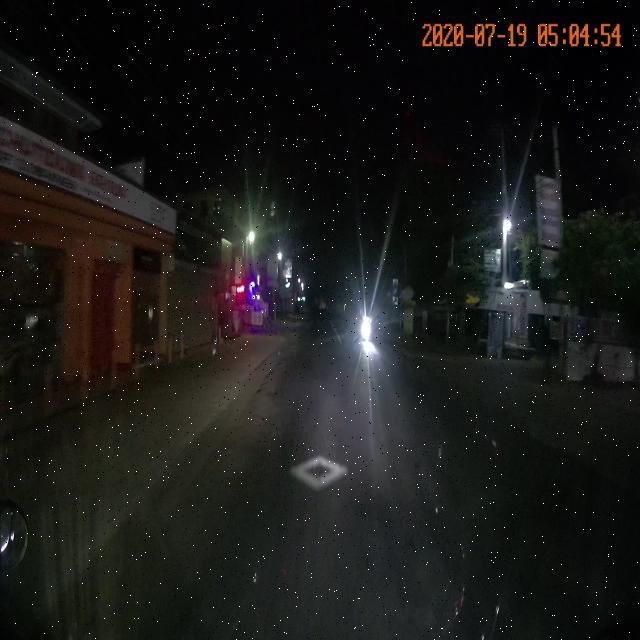diamond: (191, 447, 428, 502)
